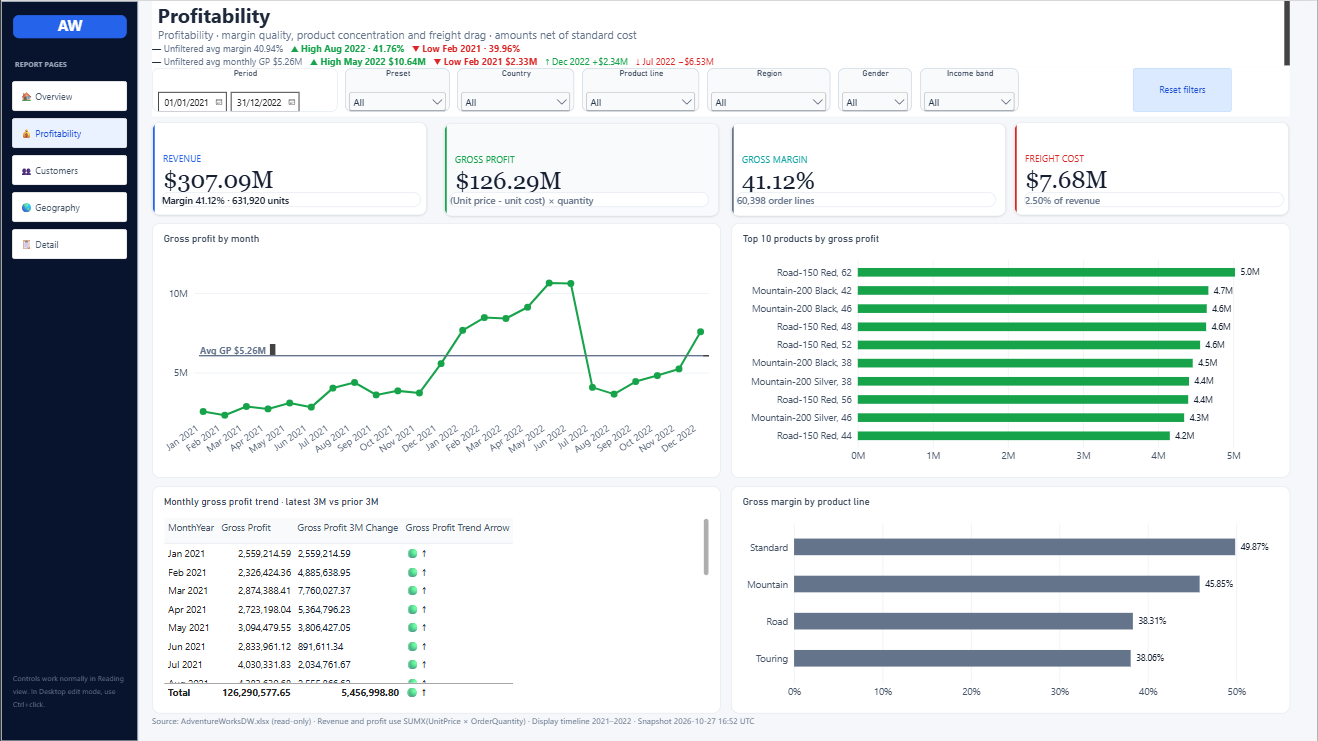

The page's visual inventory and layout, read from the dashboard file:
{"tool":"powerbi","page":{"name":"Profitability","canvas":[1920,1080],"ordinal":1},"visuals":[{"type":"textbox","box":[220,96,1660,72],"z":0},{"type":"textbox","box":[220,0,1660,96],"z":1000},{"type":"textbox","box":[220,1040,1660,32],"z":2000},{"type":"textbox","box":[0,0,200,1080],"z":3000},{"type":"barChart","title":"Top 10 products by gross profit","fields":{"Category":["DimProduct.ProductName"],"Y":["FactInternetSales.Gross Profit"]},"box":[1064.4,324,815.6,372],"z":4000},{"type":"lineChart","title":"Gross profit by month","fields":{"Category":["DimDate.MonthYear"],"Y":["FactInternetSales.Gross Profit"]},"box":[220,324,830,372],"z":5000},{"type":"barChart","title":"Gross margin by product line","fields":{"Category":["DimProduct.ProductLine"],"Y":["FactInternetSales.Gross Margin %"]},"box":[1064.4,708,815.6,332],"z":6000},{"type":"cardVisual","fields":{"Data":["FactInternetSales.KPI Freight Cost"]},"box":[1478.5,176,401.5,136],"z":7000},{"type":"tableEx","title":"Monthly gross profit trend · latest 3M vs prior 3M","fields":{"Values":["DimDate.MonthYear","FactInternetSales.Gross Profit","FactInternetSales.Gross Profit 3M Change","FactInternetSales.Gross Profit Trend Arrow"]},"box":[220,708,830,332],"z":8000},{"type":"cardVisual","fields":{"Data":["FactInternetSales.KPI Gross Profit"]},"box":[646.3,178,401.5,136],"z":9000},{"type":"cardVisual","fields":{"Data":["FactInternetSales.KPI Gross Margin"]},"box":[1065,178,401.5,136],"z":10000},{"type":"cardVisual","fields":{"Data":["FactInternetSales.KPI Revenue"]},"box":[220.3,176.5,401.5,136],"z":11000},{"type":"textbox","box":[17.5,977.5,164.9,62.7],"z":12000},{"type":"textbox","box":[20,82,160,22],"z":13000},{"type":"textbox","box":[289,517,744,2],"z":14000},{"type":"textbox","box":[291,501,110,16],"z":15000},{"type":"textbox","box":[17.5,20.4,166.3,33.6],"z":16000},{"type":"slicer","title":"Period","fields":{"Values":["DimDate.Date"]},"box":[220,98,270.6,64],"z":17000},{"type":"slicer","title":"Region","fields":{"Values":["DimSalesTerritory.TerritoryGroup"]},"box":[1030.2,98,180.4,64],"z":18000},{"type":"slicer","title":"Country","fields":{"Values":["DimCustomer.Customer Country"]},"box":[665.7,98,171.4,64],"z":19000},{"type":"slicer","title":"Product line","fields":{"Values":["DimProduct.ProductLine"]},"box":[847.9,98,171.4,64],"z":20000},{"type":"slicer","title":"Preset","fields":{"Values":["Period Preset.Preset"]},"box":[501.5,98,153.4,64],"z":21000},{"type":"actionButton","box":[1650.8,98,144.3,64],"z":22000},{"type":"slicer","title":"Income band","fields":{"Values":["DimCustomer.IncomeBand"]},"box":[1340.5,98,144.3,64],"z":23000},{"type":"slicer","title":"Gender","fields":{"Values":["DimCustomer.Gender"]},"box":[1221.4,98,108.3,64],"z":24000},{"type":"actionButton","box":[16,278,168,44],"z":25000},{"type":"actionButton","box":[16,170,168,44],"z":26000},{"type":"actionButton","box":[16,116,168,44],"z":27000},{"type":"actionButton","box":[16,224,168,44],"z":28000},{"type":"actionButton","box":[16,332,168,44],"z":29000},{"type":"cardVisual","fields":{"Data":["FactInternetSales.Sub Profitability Gross Margin"]},"box":[653,278,378.9,22],"z":30000},{"type":"cardVisual","fields":{"Data":["FactInternetSales.Sub Profitability Revenue"]},"box":[1072.5,278,378.9,22],"z":31000},{"type":"cardVisual","fields":{"Data":["FactInternetSales.Sub Profitability Freight"]},"box":[1492.1,278,378.9,22],"z":32000},{"type":"cardVisual","fields":{"Data":["FactInternetSales.Sub Profitability Gross Profit"]},"box":[233.5,278,378.9,22],"z":33000}]}

Visuals, with their boxes on the page's 1920x1080 design canvas (x1, y1, x2, y2). These are canvas units, not pixel positions in the 1318x741 screenshot, which may show the page scaled, cropped or inside an application window:
textbox: left=220, top=96, right=1880, bottom=168
textbox: left=220, top=0, right=1880, bottom=96
textbox: left=220, top=1040, right=1880, bottom=1072
textbox: left=0, top=0, right=200, bottom=1080
"Top 10 products by gross profit" barChart: left=1064, top=324, right=1880, bottom=696
"Gross profit by month" lineChart: left=220, top=324, right=1050, bottom=696
"Gross margin by product line" barChart: left=1064, top=708, right=1880, bottom=1040
cardVisual - FactInternetSales.KPI Freight Cost: left=1478, top=176, right=1880, bottom=312
"Monthly gross profit trend · latest 3M vs prior 3M" tableEx: left=220, top=708, right=1050, bottom=1040
cardVisual - FactInternetSales.KPI Gross Profit: left=646, top=178, right=1048, bottom=314
cardVisual - FactInternetSales.KPI Gross Margin: left=1065, top=178, right=1466, bottom=314
cardVisual - FactInternetSales.KPI Revenue: left=220, top=176, right=622, bottom=312
textbox: left=18, top=978, right=182, bottom=1040
textbox: left=20, top=82, right=180, bottom=104
textbox: left=289, top=517, right=1033, bottom=519
textbox: left=291, top=501, right=401, bottom=517
textbox: left=18, top=20, right=184, bottom=54
"Period" slicer: left=220, top=98, right=491, bottom=162
"Region" slicer: left=1030, top=98, right=1211, bottom=162
"Country" slicer: left=666, top=98, right=837, bottom=162
"Product line" slicer: left=848, top=98, right=1019, bottom=162
"Preset" slicer: left=502, top=98, right=655, bottom=162
actionButton: left=1651, top=98, right=1795, bottom=162
"Income band" slicer: left=1340, top=98, right=1485, bottom=162
"Gender" slicer: left=1221, top=98, right=1330, bottom=162
actionButton: left=16, top=278, right=184, bottom=322
actionButton: left=16, top=170, right=184, bottom=214
actionButton: left=16, top=116, right=184, bottom=160
actionButton: left=16, top=224, right=184, bottom=268
actionButton: left=16, top=332, right=184, bottom=376
cardVisual - FactInternetSales.Sub Profitability Gross Margin: left=653, top=278, right=1032, bottom=300
cardVisual - FactInternetSales.Sub Profitability Revenue: left=1072, top=278, right=1451, bottom=300
cardVisual - FactInternetSales.Sub Profitability Freight: left=1492, top=278, right=1871, bottom=300
cardVisual - FactInternetSales.Sub Profitability Gross Profit: left=234, top=278, right=612, bottom=300
